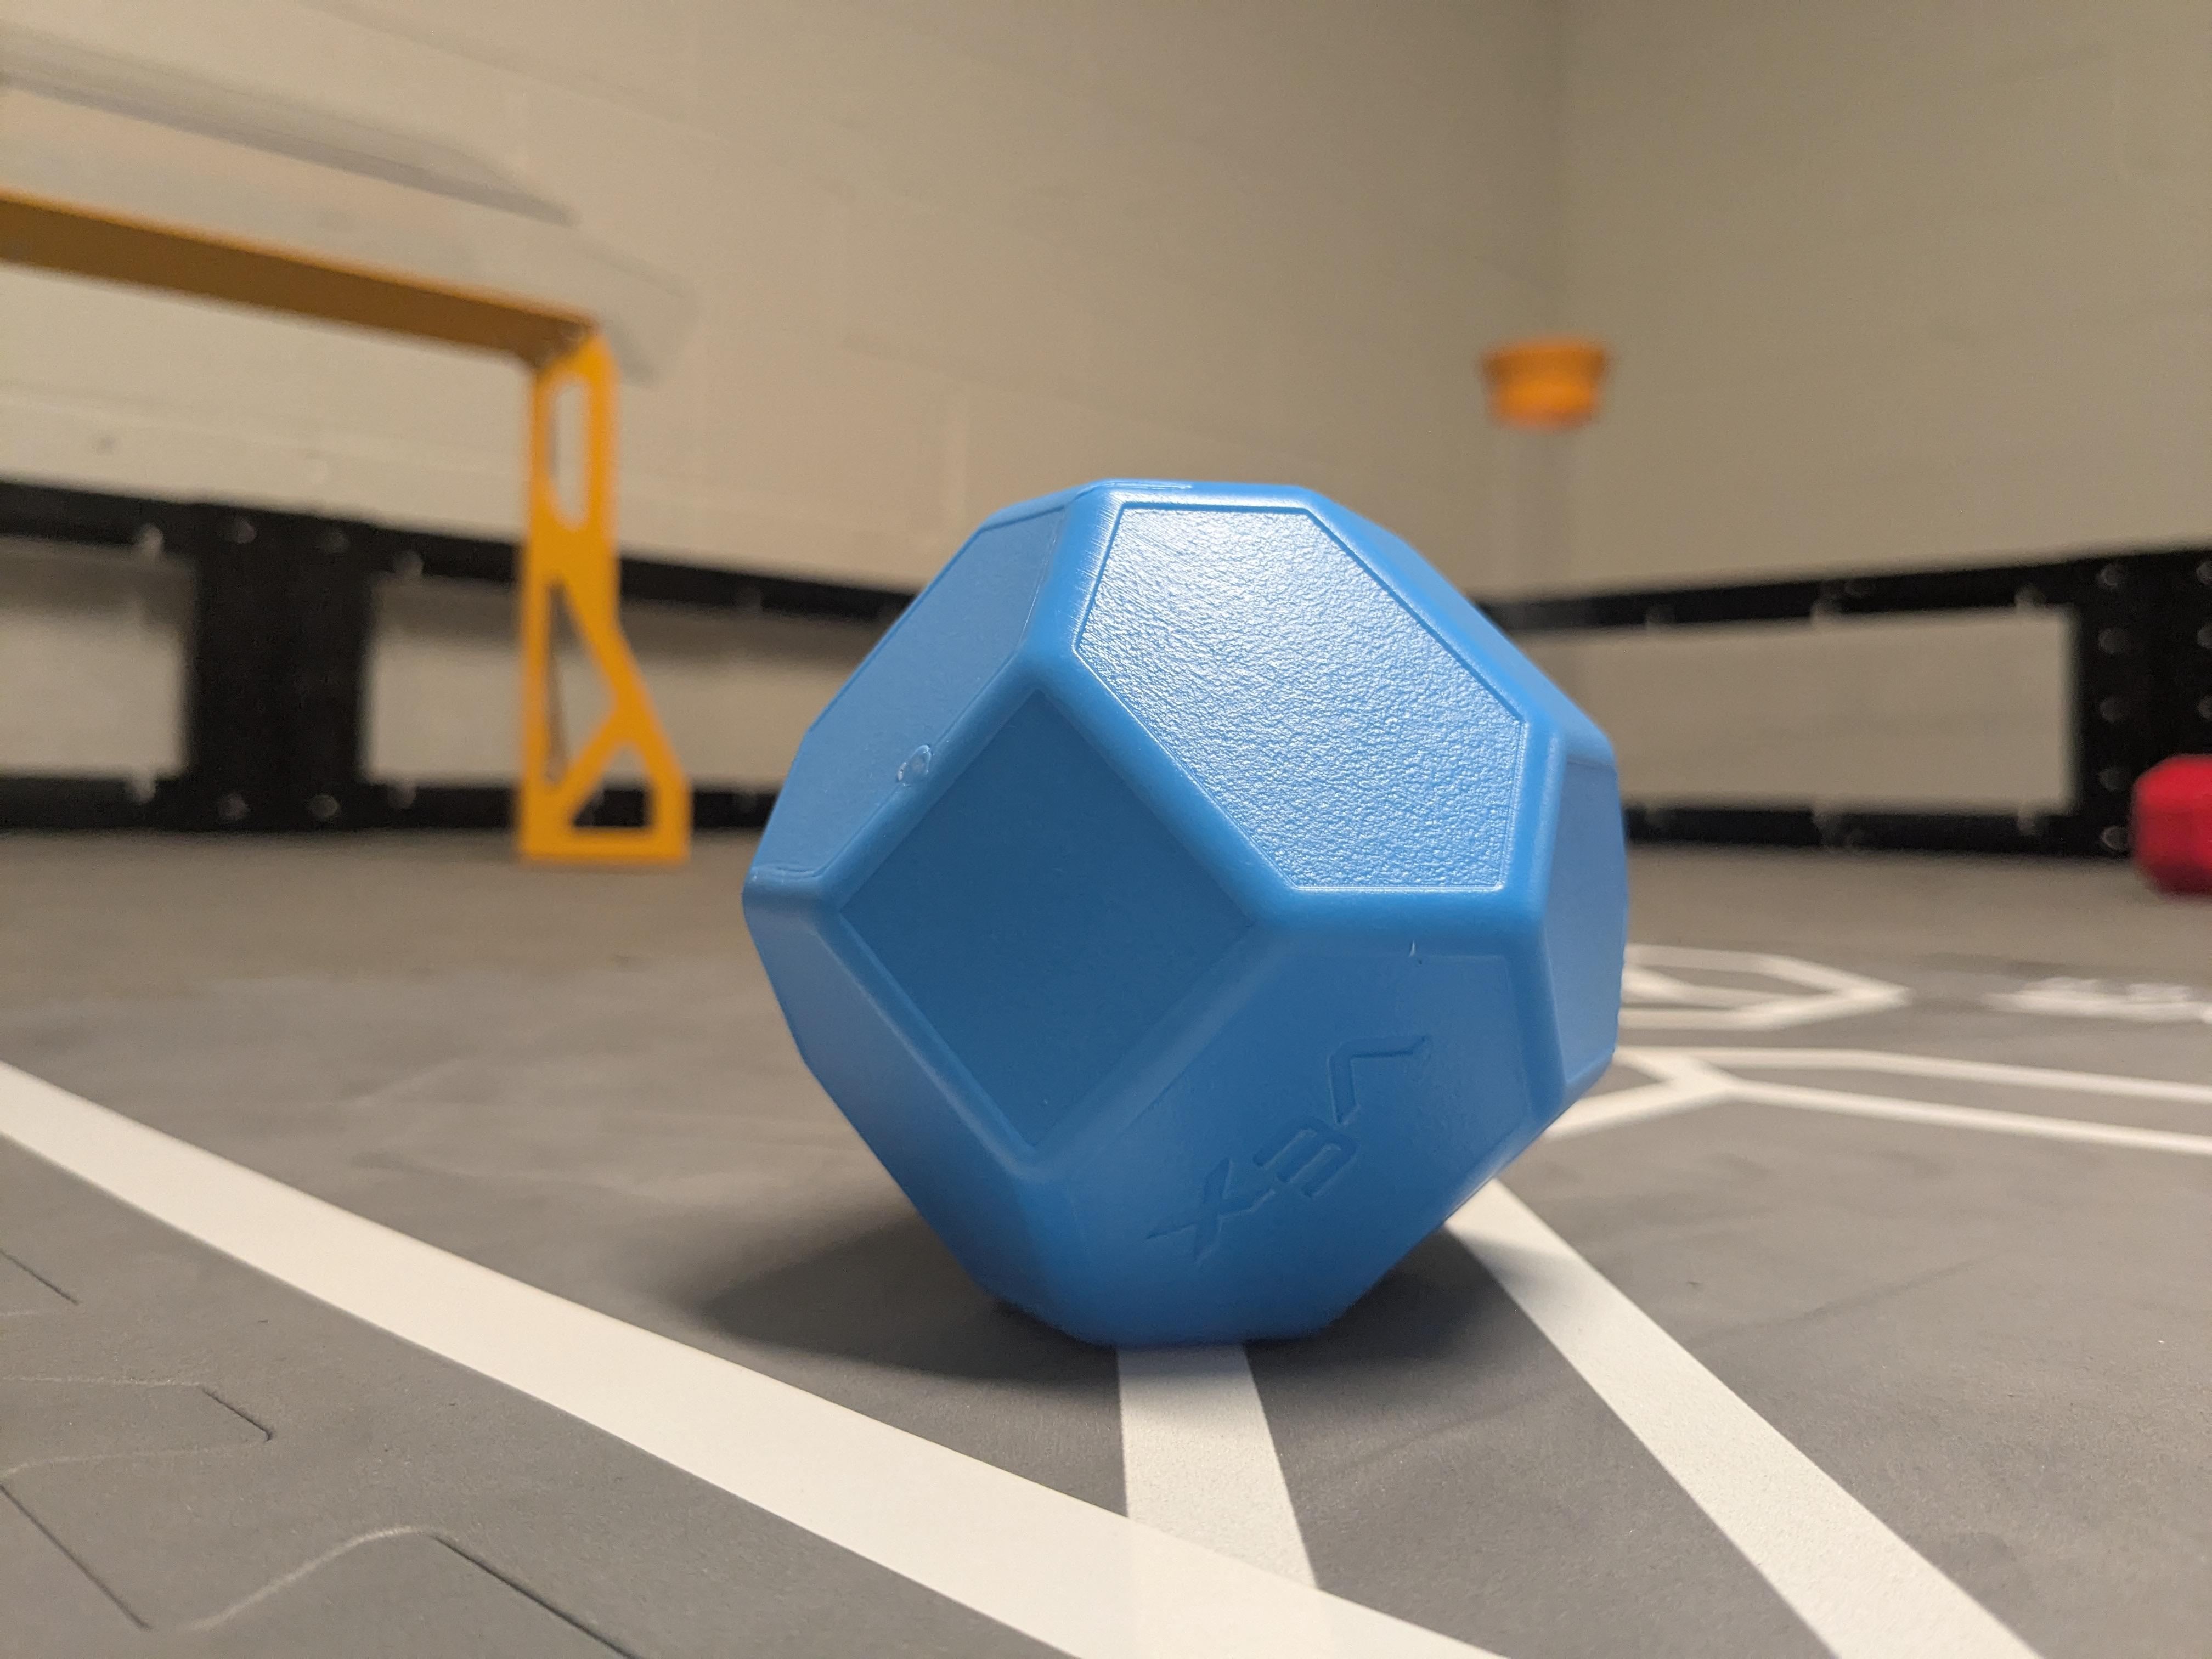Vex-Pieces-BLUE: (751, 481, 1613, 1361)
